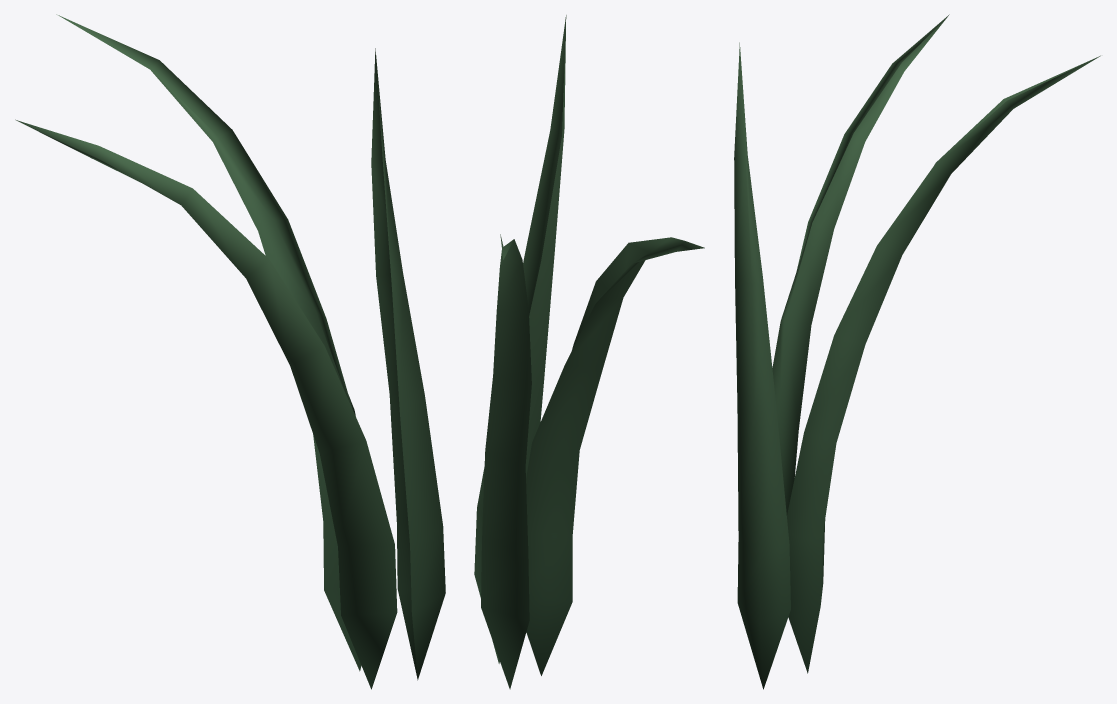
File: trees-grasses-grass-blades_v8.glb
The picture shows the model from 3 angles, left to right: view 1: azimuth 30°, elevation 25°; view 2: azimuth 150°, elevation 25°; view 3: azimuth 270°, elevation 25°; orthographic projection. The views are drawn at different scales.
Visible parts, largest first — view 1: Grass Blades_v8; view 2: Grass Blades_v8; view 3: Grass Blades_v8.
Part boxes in pixels (x1=…): Grass Blades_v8: x1=15, y1=14, x2=445, y2=689; Grass Blades_v8: x1=474, y1=15, x2=704, y2=689; Grass Blades_v8: x1=734, y1=14, x2=1100, y2=689.
Bounding box in the file's own units: 0.1587 × 0.3 × 0.1611.
